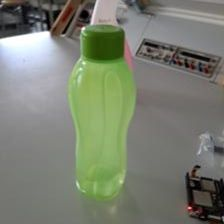bottle: (65, 22, 136, 200)
